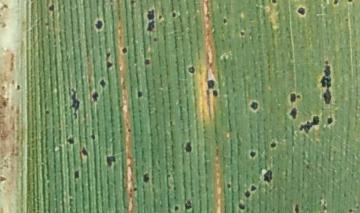tarspot: (317, 60, 336, 89), (297, 113, 322, 135), (66, 87, 82, 119), (318, 89, 335, 106), (260, 168, 275, 185), (286, 107, 300, 121), (103, 154, 117, 167), (145, 19, 158, 33), (93, 18, 105, 33), (249, 100, 261, 113), (236, 199, 248, 212), (209, 88, 223, 99), (182, 199, 193, 213), (183, 140, 193, 155), (70, 168, 82, 180), (205, 78, 218, 89), (296, 6, 309, 17), (98, 77, 109, 89), (66, 134, 78, 145), (146, 9, 157, 21), (186, 64, 197, 76), (141, 170, 151, 183), (91, 90, 100, 104), (288, 90, 297, 104), (325, 114, 334, 128), (247, 149, 259, 159), (104, 61, 115, 71), (268, 140, 279, 150), (221, 17, 231, 27), (47, 2, 56, 13), (135, 89, 144, 99), (80, 147, 89, 156), (243, 189, 252, 198), (293, 203, 302, 212), (143, 57, 151, 67), (171, 10, 179, 19), (172, 204, 180, 213), (121, 46, 128, 56), (225, 182, 233, 190), (249, 184, 257, 192), (331, 1, 341, 7), (105, 51, 113, 58), (90, 133, 97, 141), (126, 127, 134, 134), (347, 206, 355, 213), (343, 16, 350, 24), (269, 1, 279, 6), (131, 186, 138, 193), (152, 37, 159, 44), (239, 30, 246, 37), (296, 93, 302, 101), (43, 110, 51, 115), (156, 15, 164, 20), (15, 84, 21, 90), (347, 1, 354, 5)
